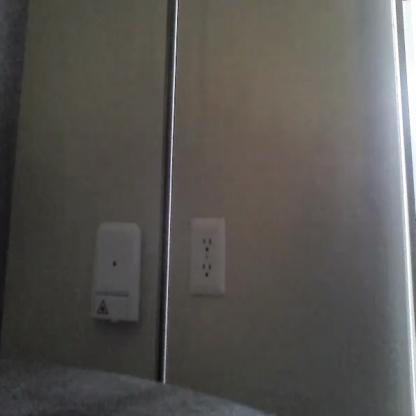OUTLET: (190, 218, 226, 294)
